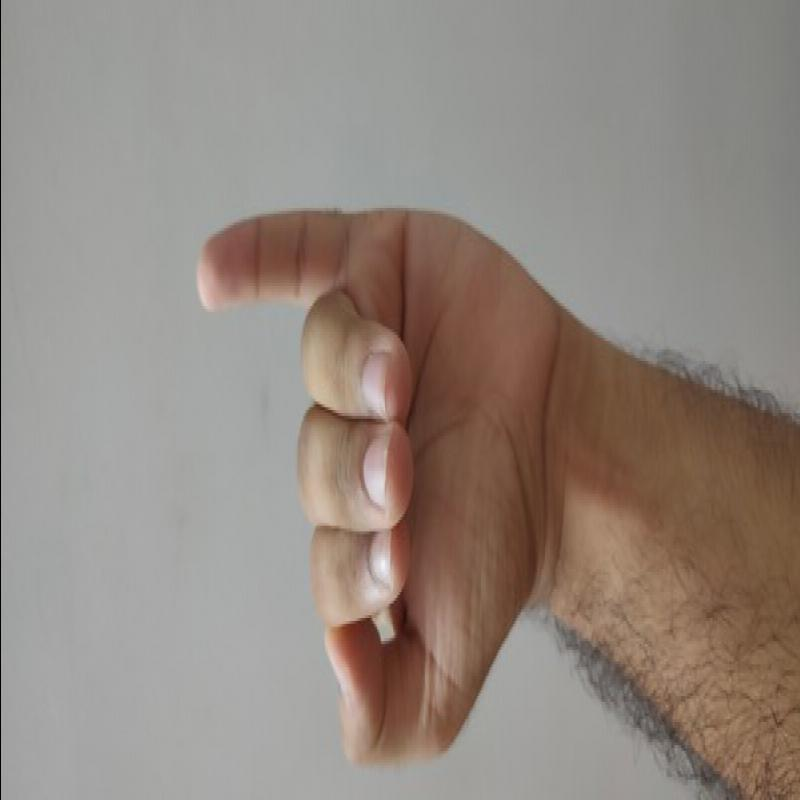Kartharee Mukham: (185, 183, 579, 779)
